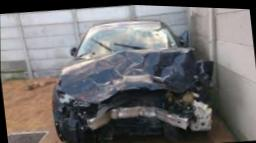Bonnet: (55, 43, 200, 103)
Bumper: (50, 85, 213, 143)
Light: (54, 86, 88, 114), (179, 75, 208, 103)
